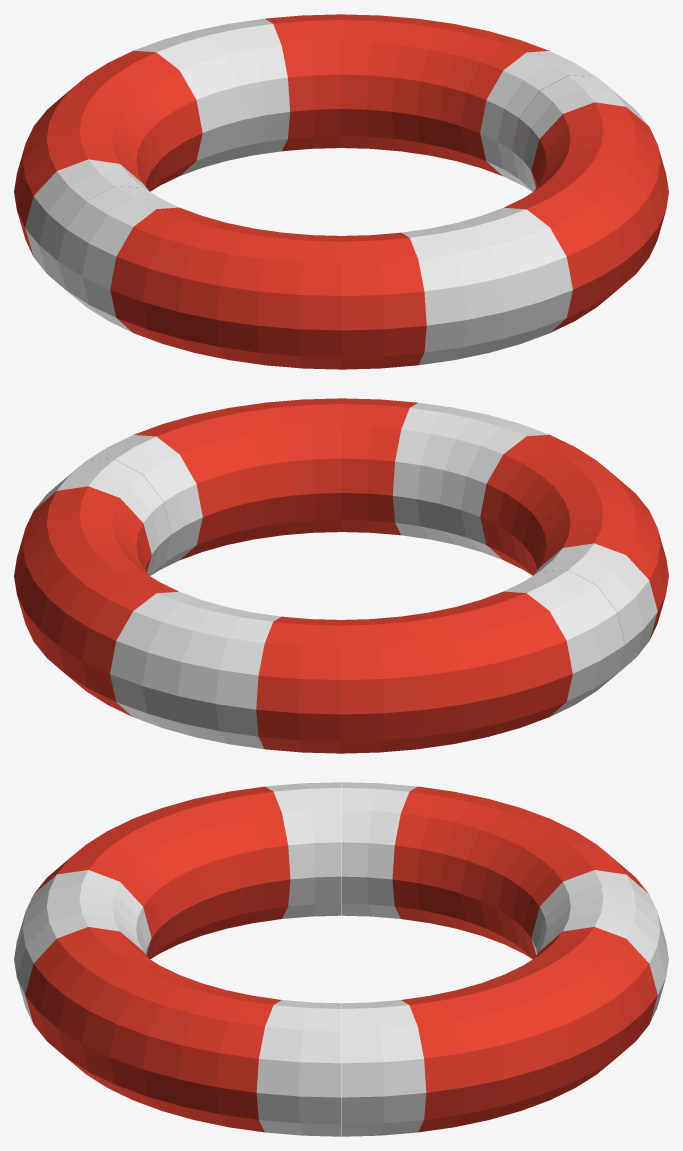
Rendered from LifeRaft.fbx.
3 views of the same model, one above another, from view 1: azimuth 30°, elevation 25°; view 2: azimuth 150°, elevation 25°; view 3: azimuth 270°, elevation 25° (orthographic).
Parts seen in each view (by area): view 1: Torus; view 2: Torus; view 3: Torus.
Part boxes in pixels (x1,y1,x2,y2): Torus: (14,14,668,369); Torus: (14,398,668,753); Torus: (14,782,668,1136).
Bounding box in the file's own units: 431 × 88.95 × 432.
